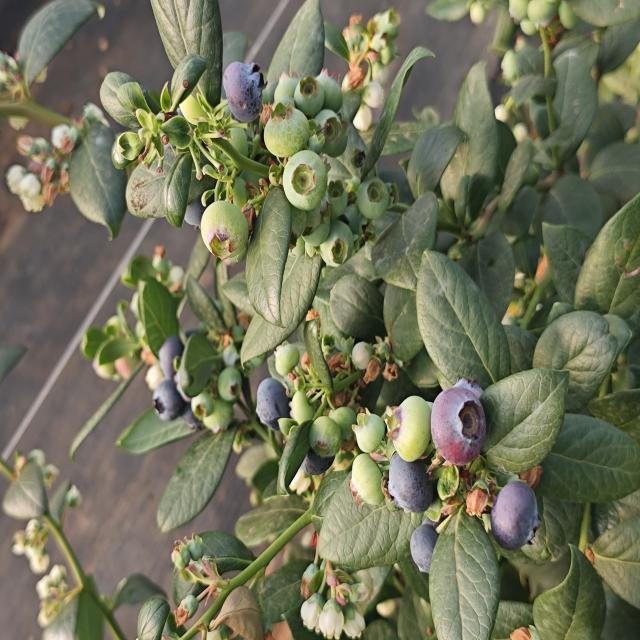ripe: (222, 51, 270, 139), (433, 386, 487, 460), (388, 454, 437, 524), (487, 488, 535, 546), (148, 380, 184, 425), (250, 380, 282, 422), (406, 528, 436, 572), (158, 339, 183, 382)
